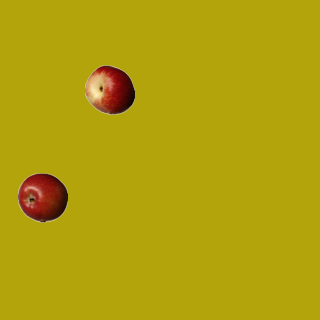Apple Braeburn: (17, 172, 67, 222)
Nectarine: (84, 64, 134, 114)
